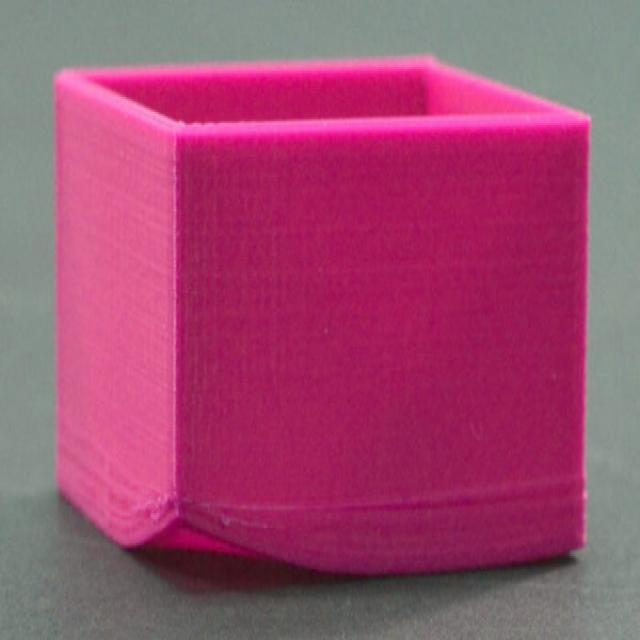cracks: (79, 511, 408, 598)
